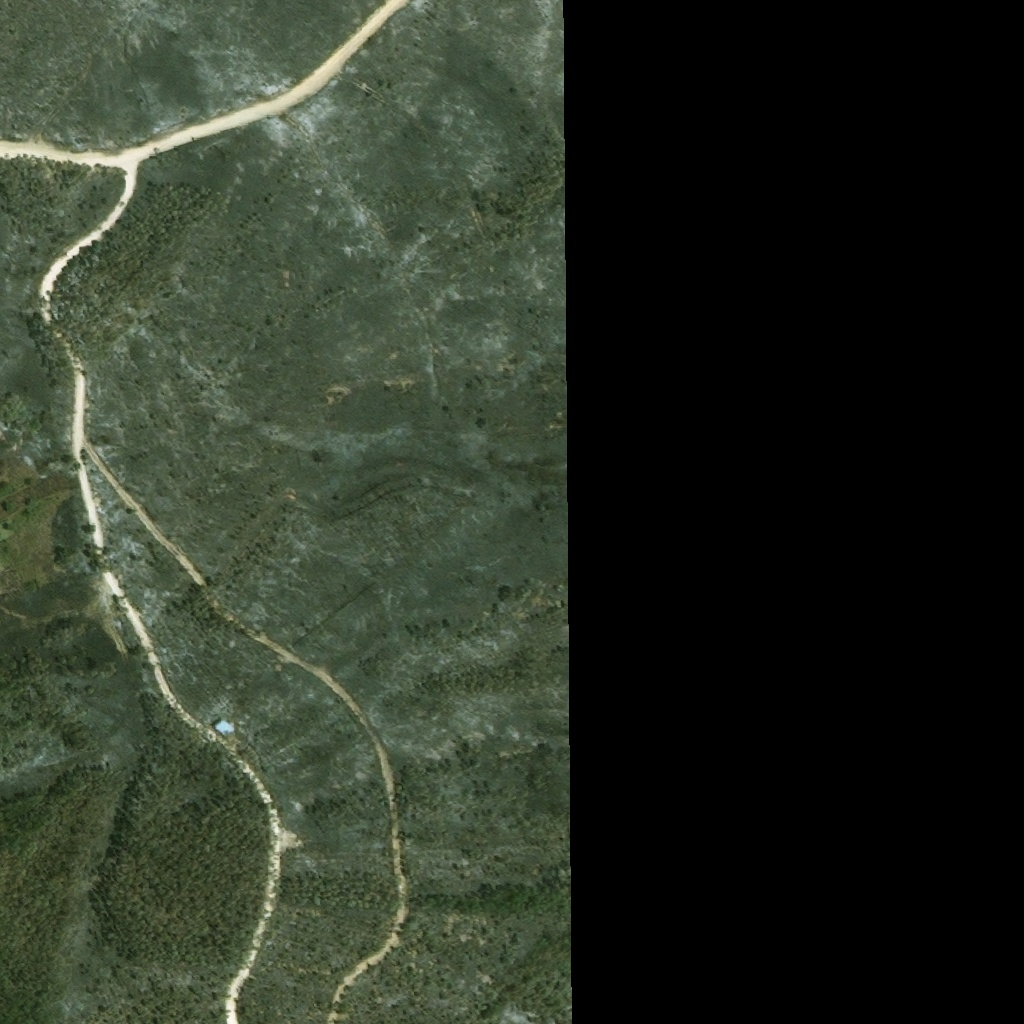1 minor-damage: (211, 716, 237, 738)
